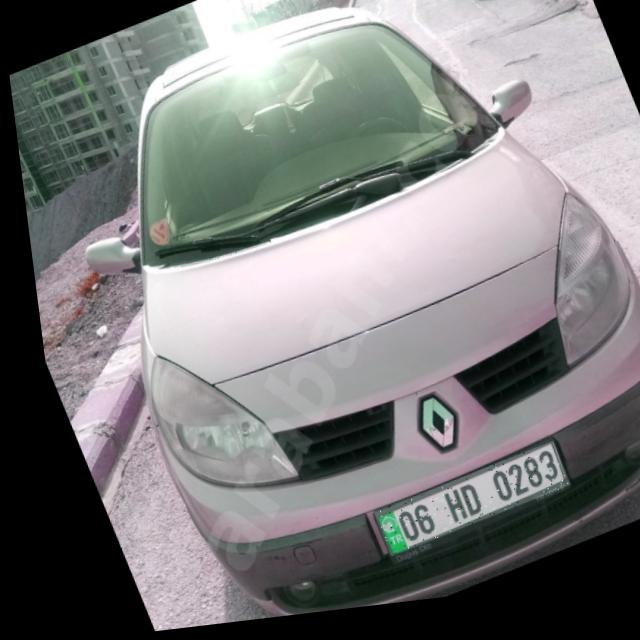license_plate: (353, 451, 561, 565)
